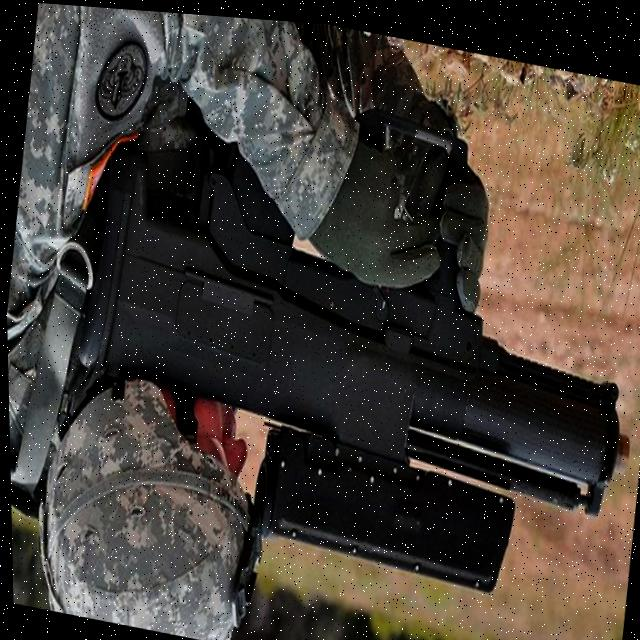firearm: (55, 104, 640, 608)
